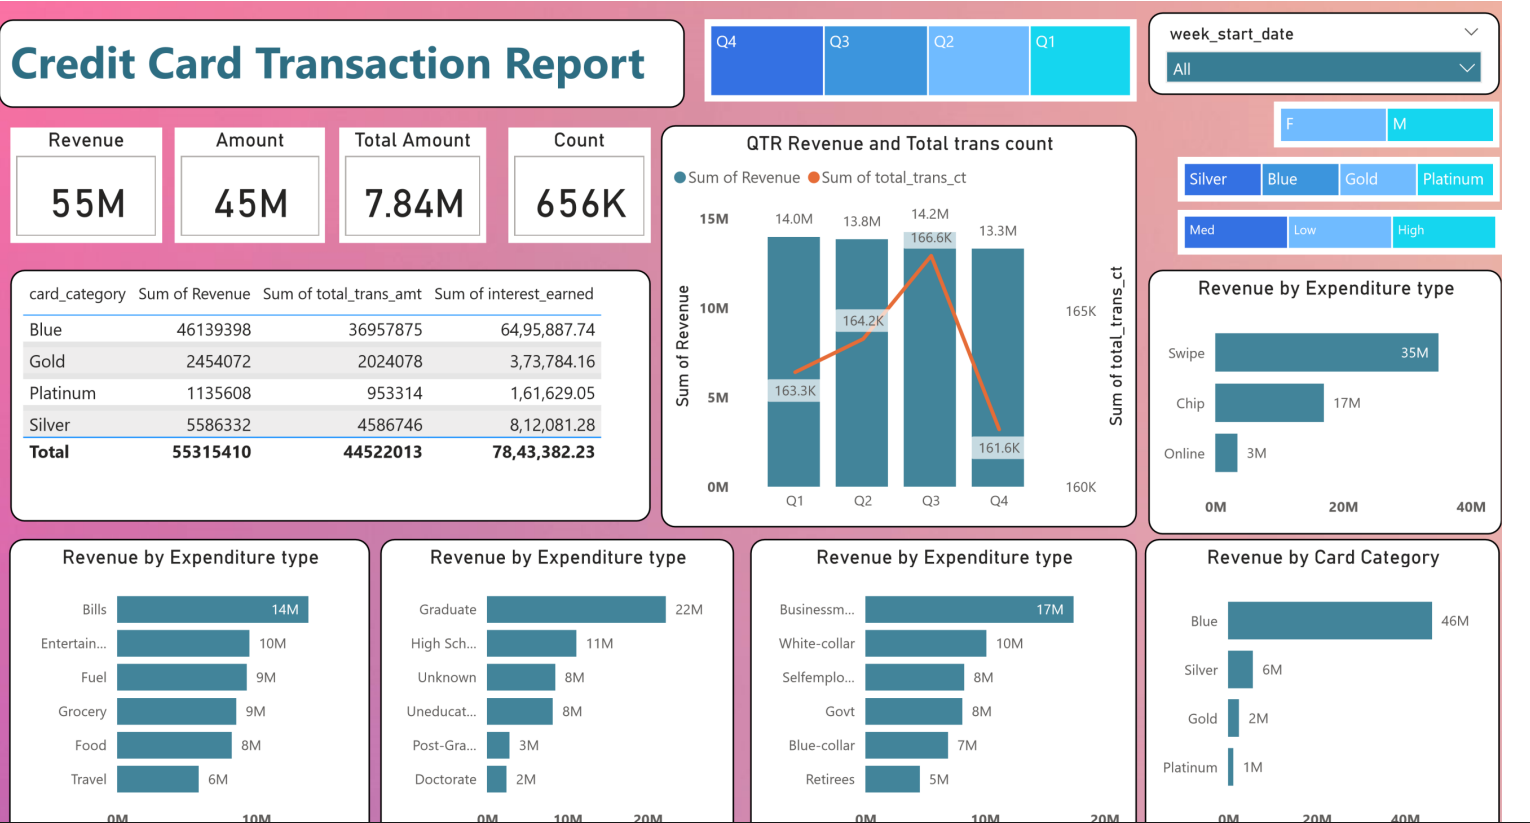

What the dashboard file says about the page in this screenshot:
{"tool":"powerbi","page":{"name":"CC+transaction","canvas":[1280,720],"ordinal":1},"visuals":[{"type":"textbox","box":[0,16.2,583.8,75],"z":0},{"type":"lineStackedColumnComboChart","title":"QTR Revenue and Total trans count","fields":{"Category":["public cc_detail.qtr"],"Y":["Sum(public cc_detail.Revenue)"],"Y2":["Sum(public cc_detail.total_trans_ct)"]},"box":[563.8,106.2,405,341.2],"z":1000},{"type":"barChart","title":" Revenue by Expenditure type","fields":{"Y":["Sum(public cc_detail.Revenue)"],"Category":["public cc_detail.exp_type"]},"box":[8.8,457.5,307.5,262.5],"z":2000},{"type":"barChart","title":" Revenue by Expenditure type","fields":{"Y":["Sum(public cc_detail.Revenue)"],"Category":["public cust_detail.education_level"]},"box":[325,457.5,301.2,262.5],"z":3000},{"type":"barChart","title":" Revenue by Expenditure type","fields":{"Y":["Sum(public cc_detail.Revenue)"],"Category":["public cust_detail.customer_job"]},"box":[640,457.5,328.8,262.5],"z":4000},{"type":"barChart","title":" Revenue by Card Category","fields":{"Y":["Sum(public cc_detail.Revenue)"],"Category":["public cc_detail.card_category"]},"box":[976.2,457.5,301.2,262.5],"z":5000},{"type":"barChart","title":" Revenue by Expenditure type","fields":{"Y":["Sum(public cc_detail.Revenue)"],"Category":["public cc_detail.use_chip"]},"box":[978.8,228.8,301.2,225],"z":6000},{"type":"tableEx","fields":{"Values":["public cc_detail.card_category","Sum(public cc_detail.Revenue)","Sum(public cc_detail.total_trans_amt)","Sum(public cc_detail.interest_earned)"]},"box":[10,228.8,545,213.8],"z":7000},{"type":"cardVisual","title":"Revenue","fields":{"Data":["Sum(public cc_detail.Revenue)"]},"box":[10,107.5,128.8,98.8],"z":8000},{"type":"cardVisual","title":"Amount","fields":{"Data":["Sum(public cc_detail.total_trans_amt)"]},"box":[150,107.5,127.5,98.8],"z":9000},{"type":"cardVisual","title":"Total Amount","fields":{"Data":["Sum(public cc_detail.interest_earned)"]},"box":[290,107.5,125,98.8],"z":10000},{"type":"cardVisual","title":"Count","fields":{"Data":["Sum(public cc_detail.total_trans_ct)"]},"box":[433.8,107.5,121.2,98.8],"z":11000},{"type":"slicer","fields":{"Values":["public cc_detail.week_start_date"]},"box":[978.8,10,298.8,70],"z":12000},{"type":"treemap","fields":{"Group":["public cc_detail.qtr"],"Values":["Avg(public cc_detail.client_num)"]},"box":[601.2,16.2,367.5,70],"z":13000},{"type":"treemap","fields":{"Group":["public cust_detail.gender"],"Values":["Avg(public cc_detail.client_num)"]},"box":[1086.2,86.2,191.2,38.8],"z":14000},{"type":"treemap","fields":{"Values":["Avg(public cc_detail.client_num)"],"Group":["public cc_detail.card_category"]},"box":[1003.8,132.5,273.8,38.8],"z":15000},{"type":"treemap","fields":{"Values":["Avg(public cc_detail.client_num)"],"Group":["public cust_detail.IncomeGroup"]},"box":[1003.8,177.5,276.2,38.8],"z":16000}]}

Visuals, with their boxes in screenshot pixels (x1, y1, x2, y2):
textbox: [left=0, top=19, right=680, bottom=107]
"QTR Revenue and Total trans count" lineStackedColumnComboChart: [left=656, top=124, right=1131, bottom=524]
" Revenue by Expenditure type" barChart: [left=6, top=536, right=366, bottom=822]
" Revenue by Expenditure type" barChart: [left=377, top=536, right=729, bottom=822]
" Revenue by Expenditure type" barChart: [left=746, top=536, right=1131, bottom=822]
" Revenue by Card Category" barChart: [left=1139, top=536, right=1492, bottom=822]
" Revenue by Expenditure type" barChart: [left=1142, top=268, right=1495, bottom=531]
tableEx - public cc_detail.card_category x Sum(public cc_detail.Revenue): [left=8, top=268, right=646, bottom=518]
"Revenue" cardVisual: [left=8, top=126, right=159, bottom=242]
"Amount" cardVisual: [left=172, top=126, right=321, bottom=242]
"Total Amount" cardVisual: [left=336, top=126, right=482, bottom=242]
"Count" cardVisual: [left=504, top=126, right=646, bottom=242]
slicer - public cc_detail.week_start_date: [left=1142, top=12, right=1492, bottom=94]
treemap - public cc_detail.qtr x Avg(public cc_detail.client_num): [left=700, top=19, right=1131, bottom=101]
treemap - public cust_detail.gender x Avg(public cc_detail.client_num): [left=1268, top=101, right=1492, bottom=146]
treemap - Avg(public cc_detail.client_num) x public cc_detail.card_category: [left=1172, top=155, right=1492, bottom=201]
treemap - Avg(public cc_detail.client_num) x public cust_detail.IncomeGroup: [left=1172, top=208, right=1495, bottom=253]
